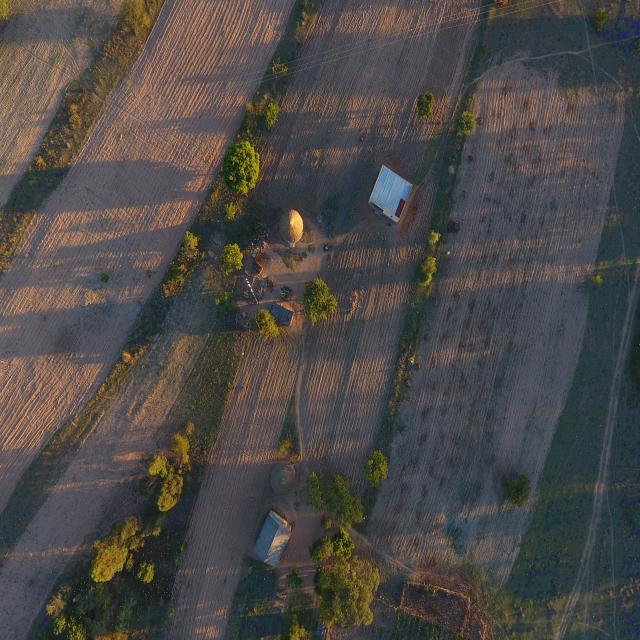boundaries: (358, 82, 488, 486), (20, 285, 181, 508)
